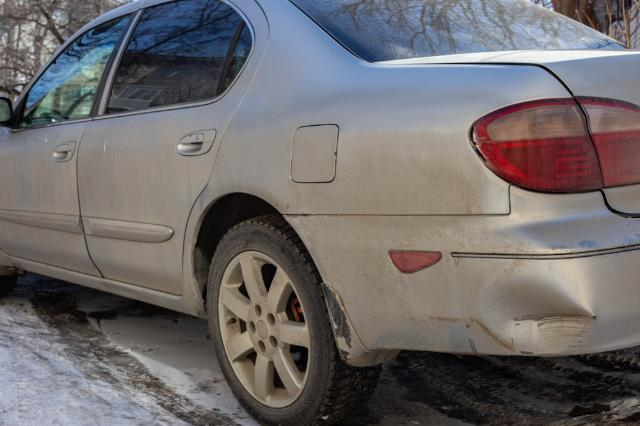dent: (479, 282, 595, 355)
lamp broken: (469, 98, 605, 196)
scratch: (324, 285, 357, 365)
